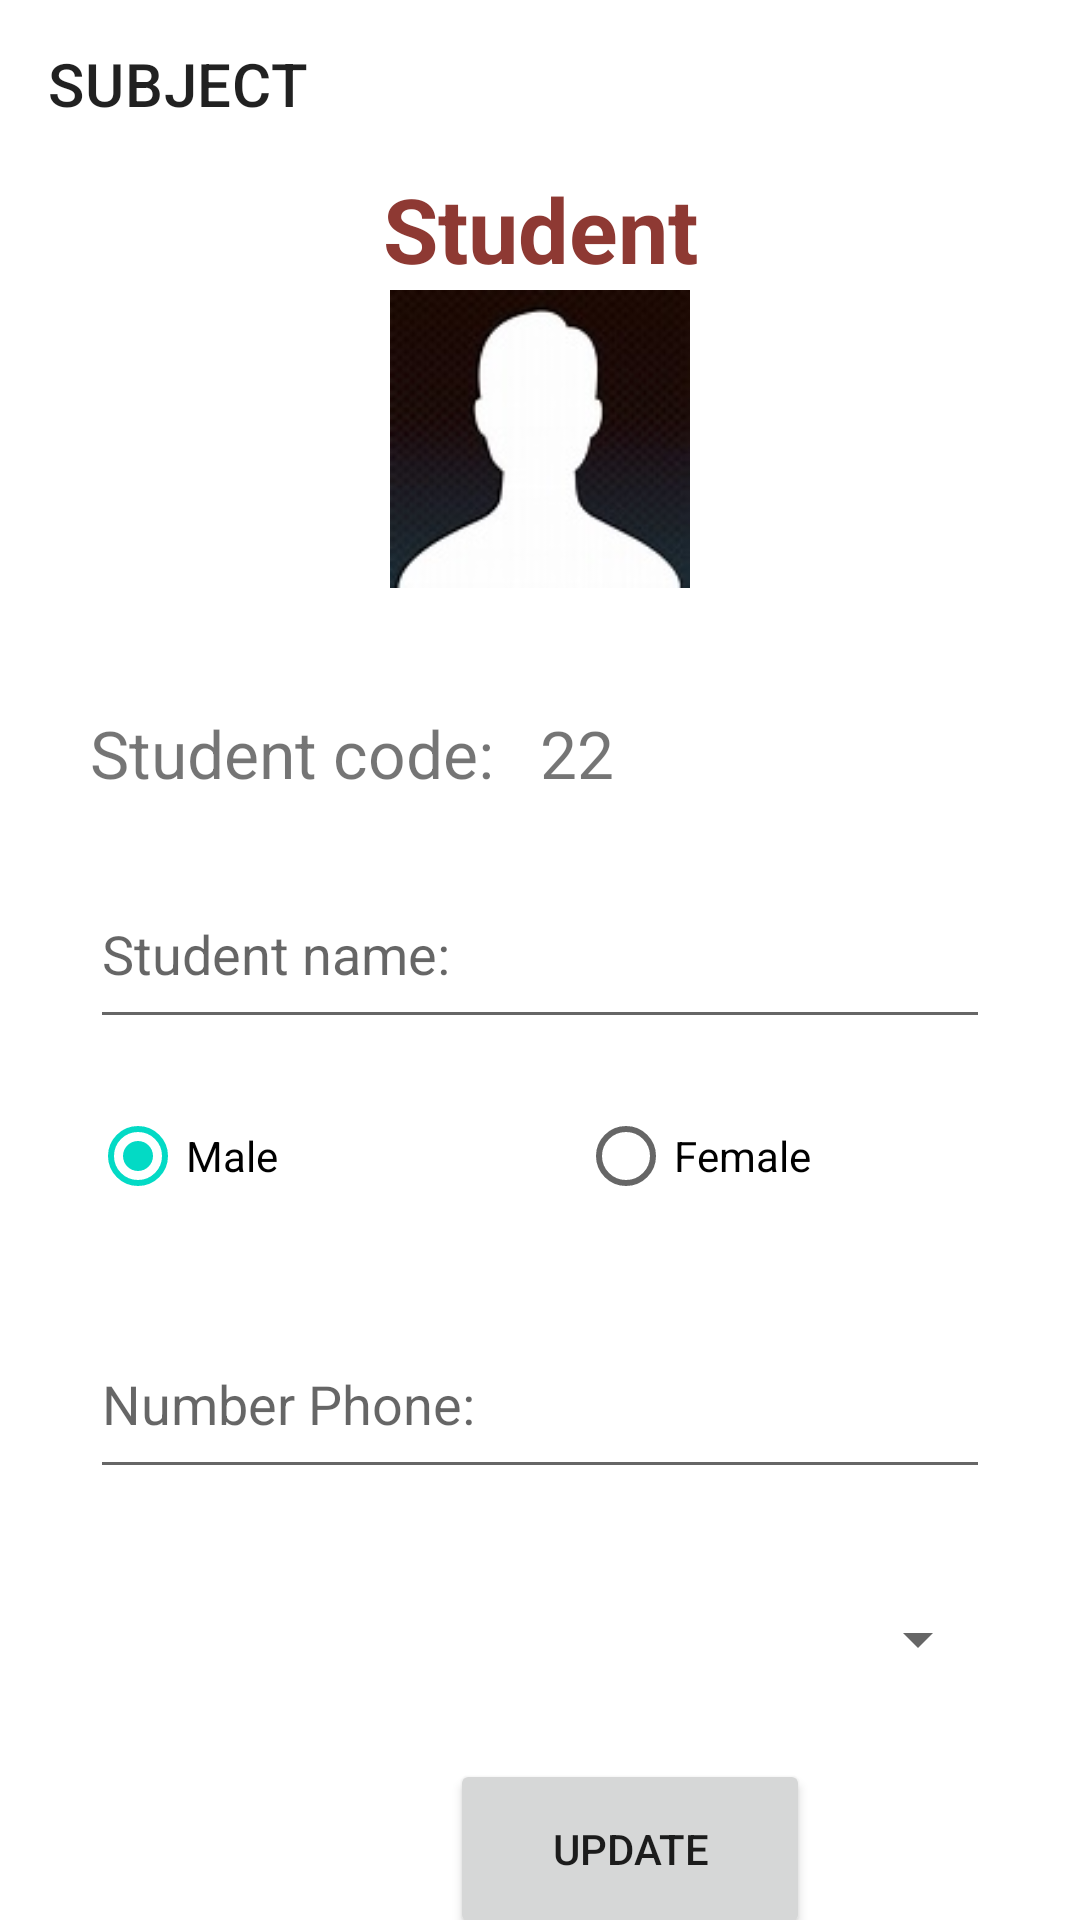

Icons on this 1080 × 1920 Android screen, each with the point to tap as (x,y):
anh: (540,439)
